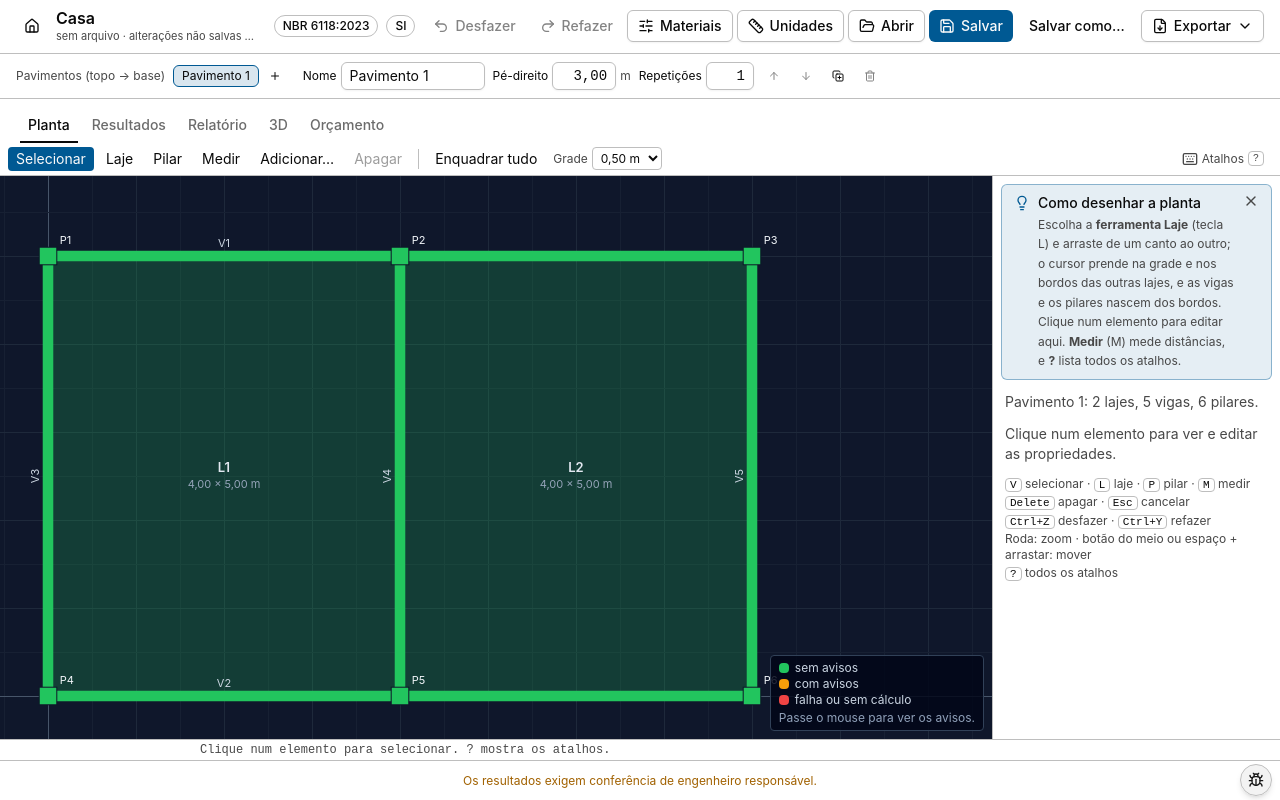
Test: diálogo de materiais: modo de cálculo fora da NB-1/78 › com NBR 6118 o switch fica desabilitado, mostra o aviso e não muda o modo salvo
expect the heading "Casa" is shown: met, box [56,8,95,28]
Step 1. Click the button "Materiais" → click(680, 26), box [627,10,733,42]
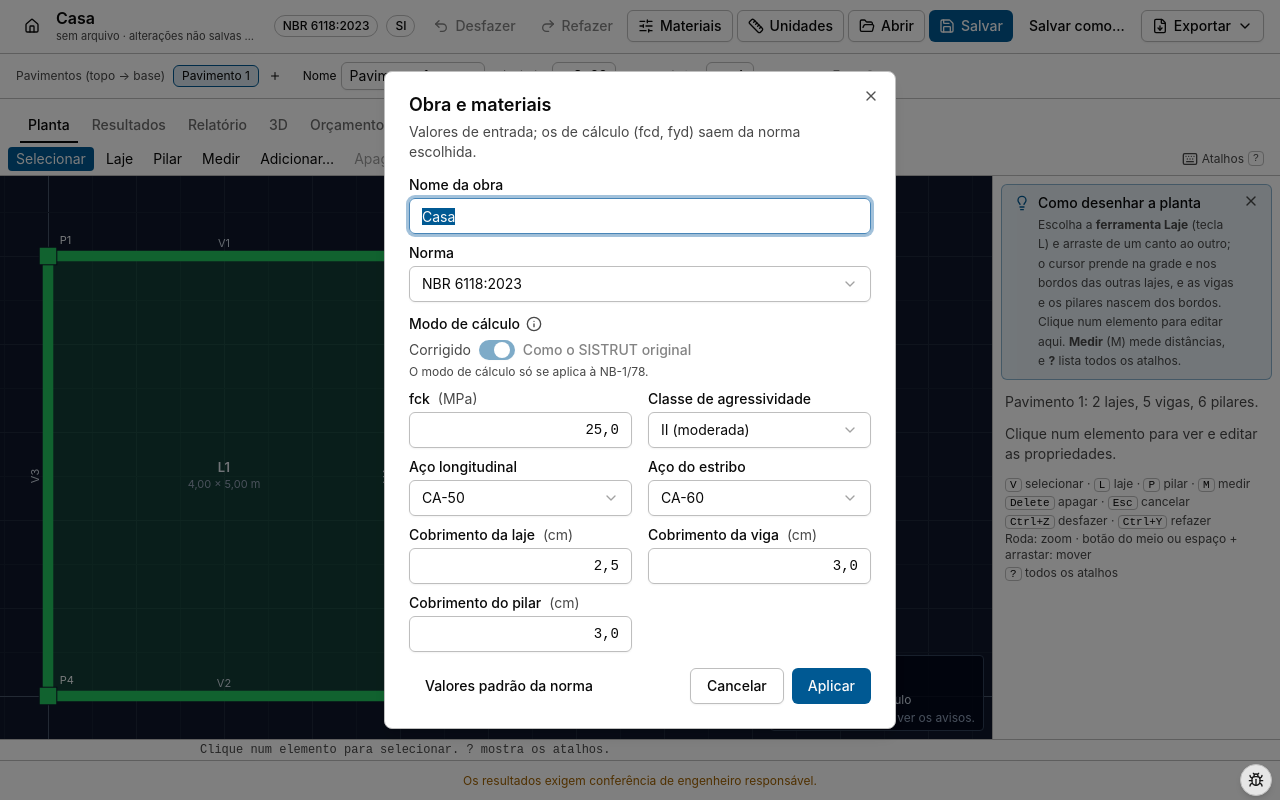
expect the switch named "Modo de cálculo" is disabled: met
expect the text "O modo de cálculo só se aplica à NB-1/78." is shown: met, box [409,364,648,380]
Step 2. Click the switch named "Modo de cálculo" → click(497, 350), box [479,340,515,360]
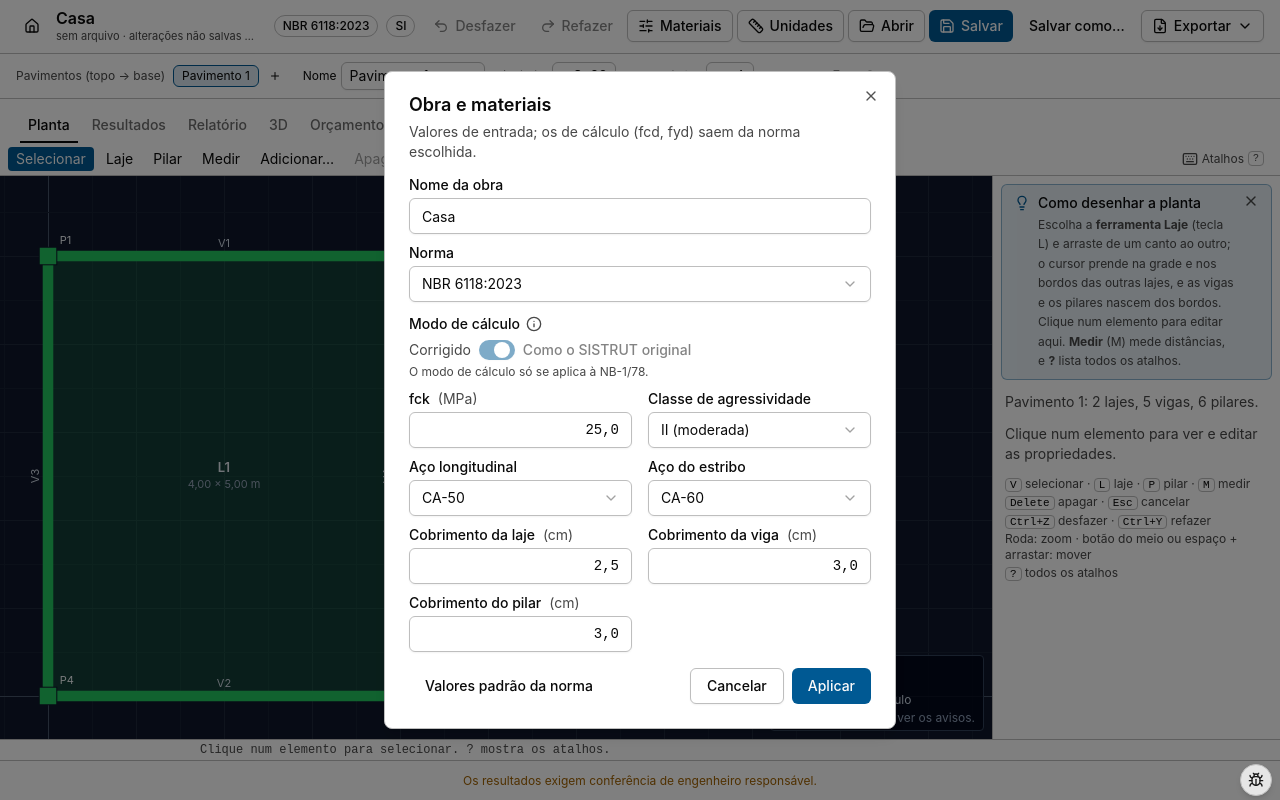
Step 3. Click the button "Aplicar" → click(831, 686), box [792,668,871,704]
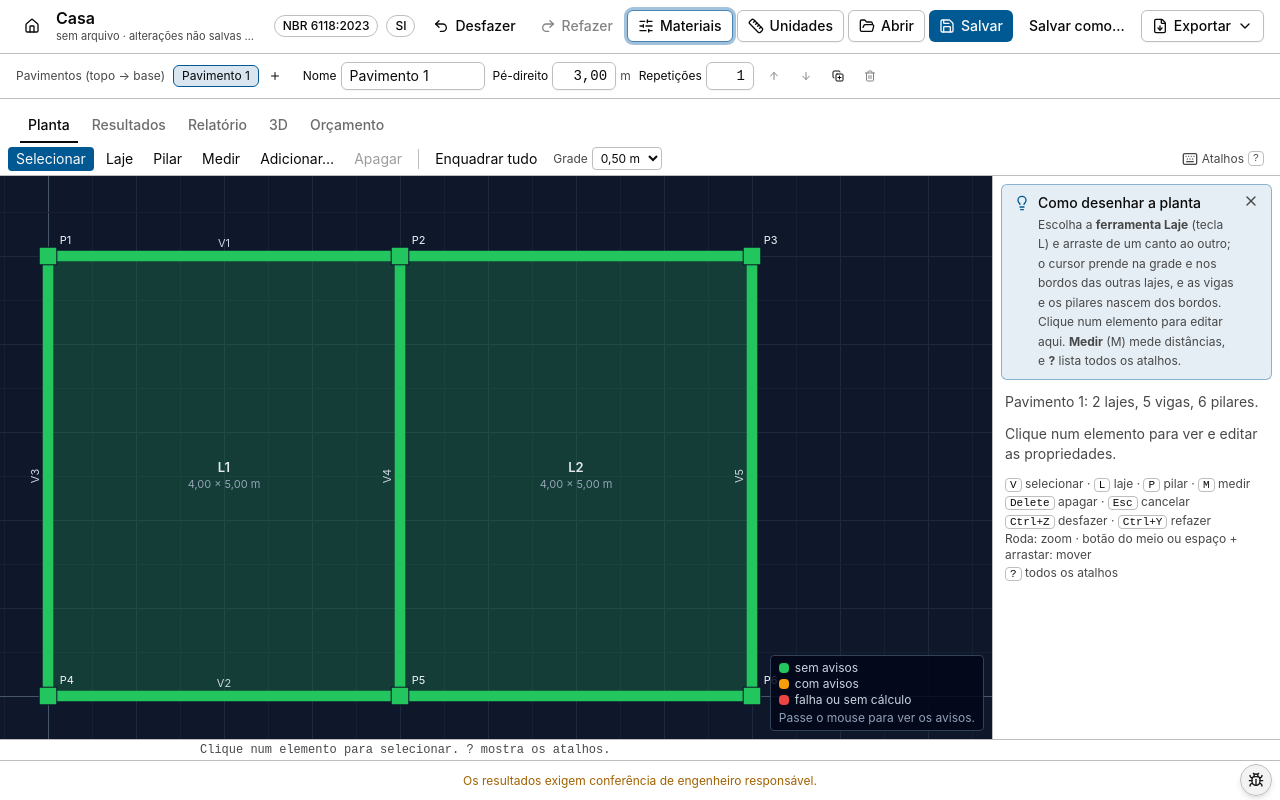
expect the dialog is gone: met
